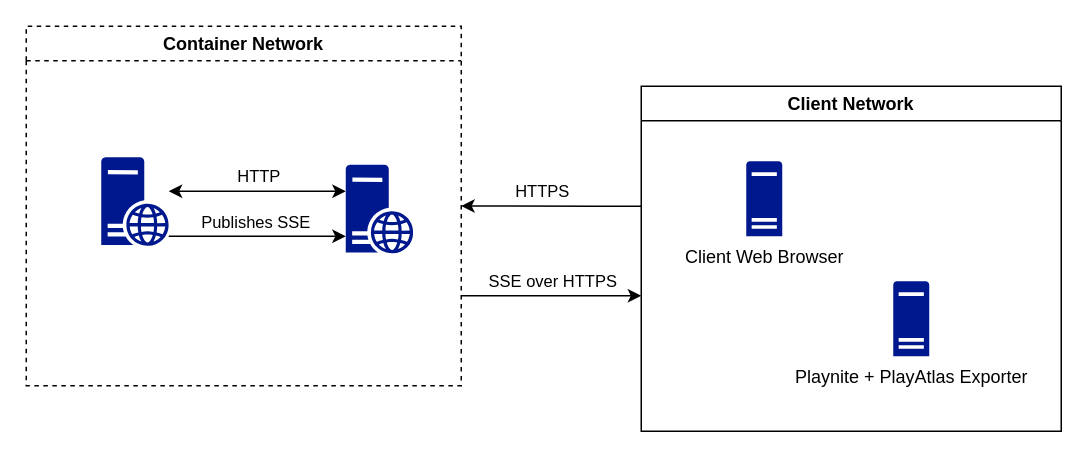
This 1088x458 diagram has some shape labels left out. Here are the shapes that lost their labels. From the top down, the centre of each, then its label:
At pixel 134 200: "PlayAtlas Server".
At pixel 378 208: "Reverse Proxy (TLS Termination)".
